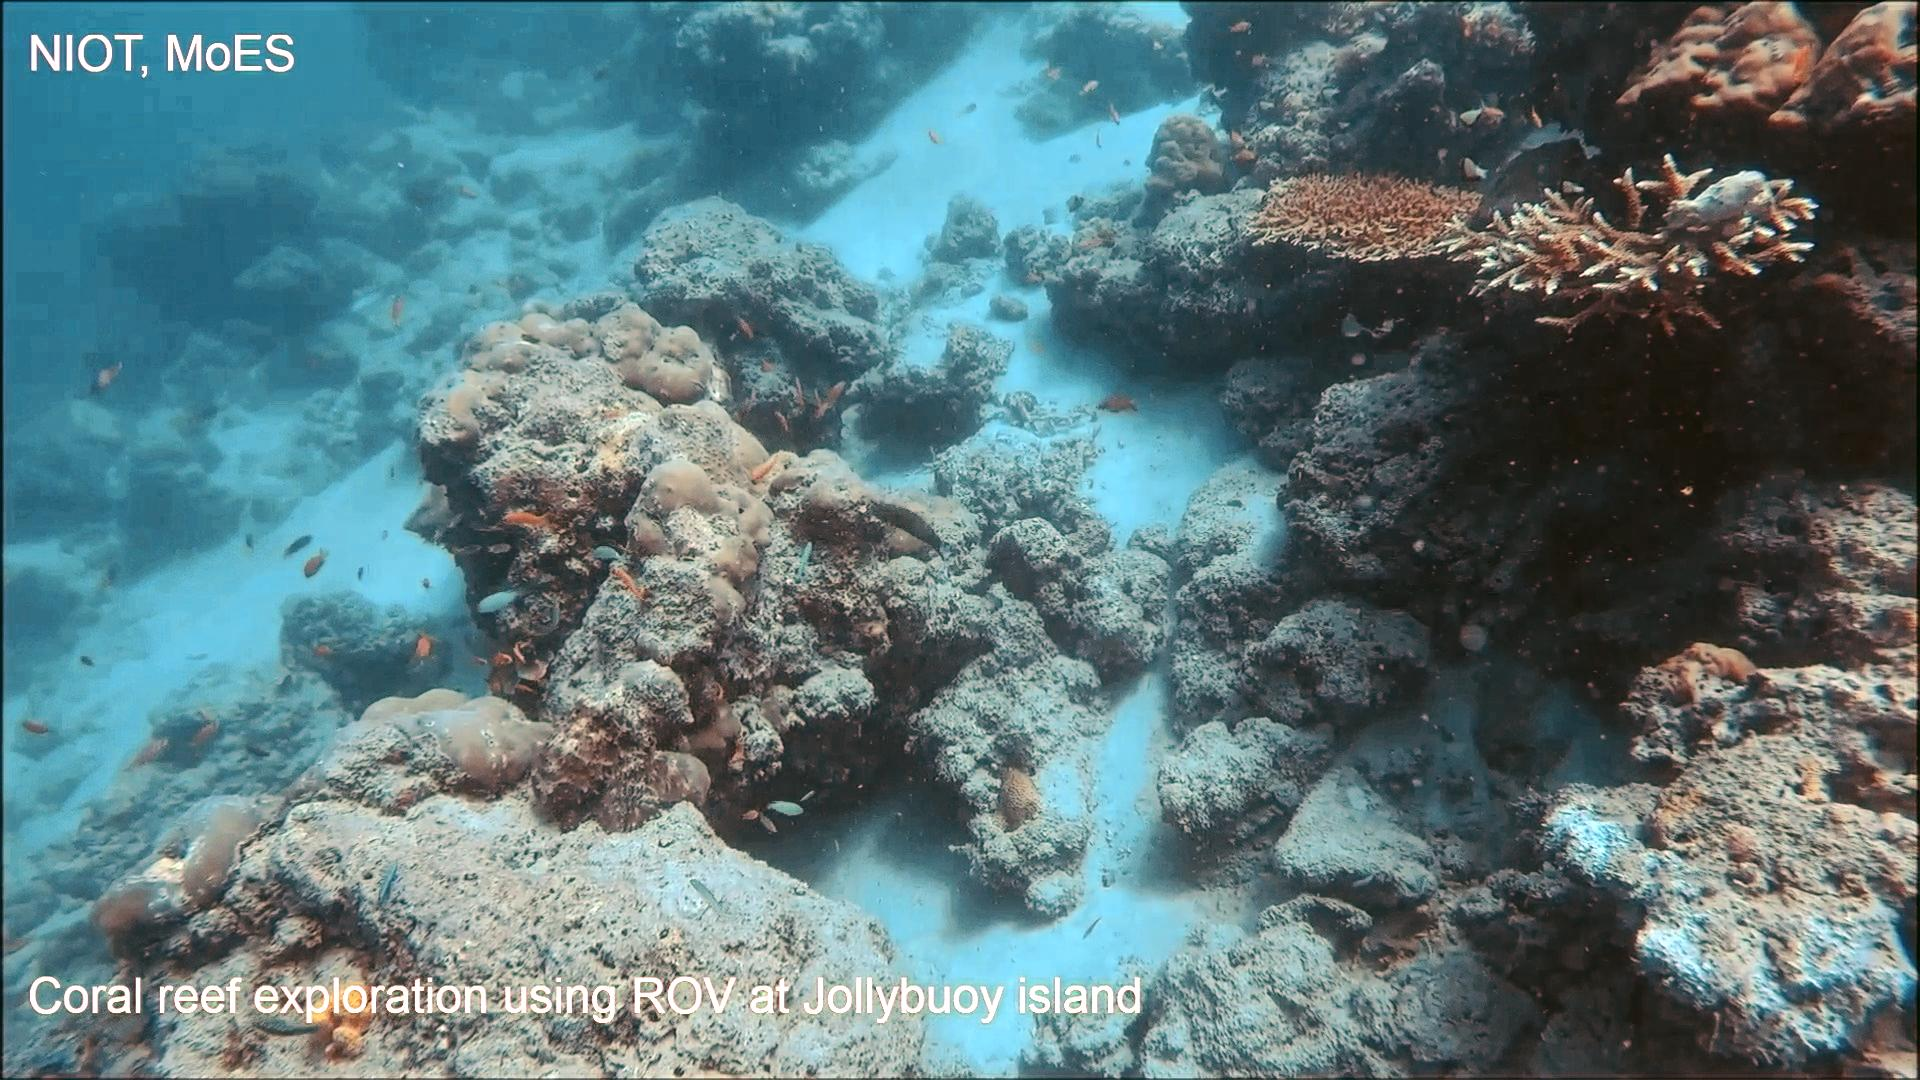Porites-Porites pukoensis: (559, 295, 812, 634)
